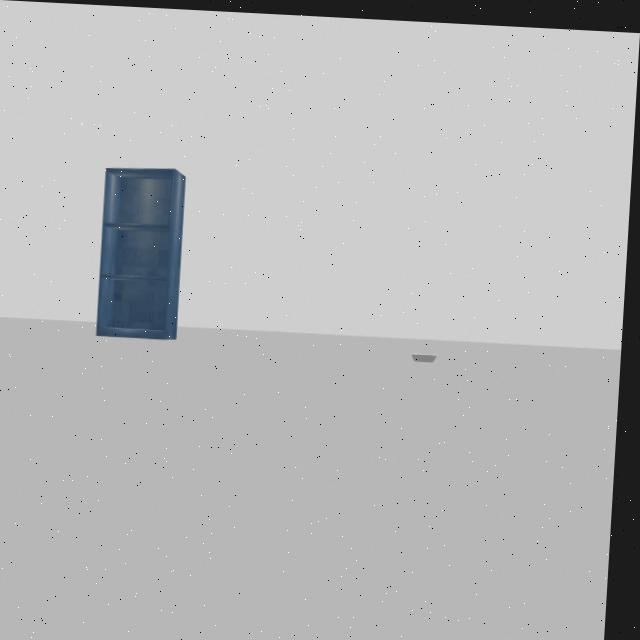bowl: (409, 338, 454, 364)
shelf: (90, 145, 200, 361)
